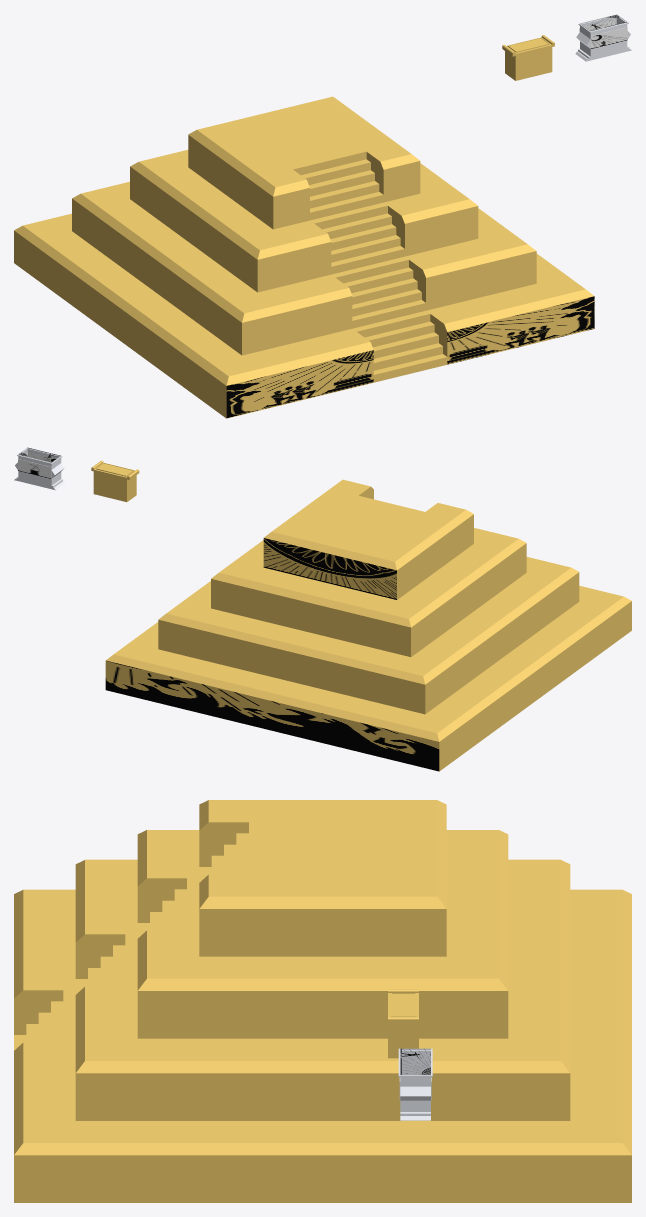
Rendered from Top1.fbx.
3 views of the same model, one above another, from view 1: azimuth 30°, elevation 25°; view 2: azimuth 150°, elevation 25°; view 3: azimuth 270°, elevation 25° (orthographic). The views are drawn at different scales.
Visible parts, largest first — view 1: 큐브, MoonJedan, SunJedan; view 2: 큐브, MoonJedan, SunJedan; view 3: 큐브, MoonJedan, SunJedan.
Boxes of the visible parts, x1,y1,x2,y2 form: 큐브: [14, 96, 594, 418]; MoonJedan: [575, 14, 631, 61]; SunJedan: [502, 35, 554, 80]; 큐브: [105, 479, 631, 771]; MoonJedan: [14, 447, 64, 490]; SunJedan: [91, 460, 139, 501]; 큐브: [14, 800, 631, 1202]; MoonJedan: [398, 1048, 432, 1120]; SunJedan: [388, 989, 418, 1058].
Size of the model in its own units: 2925 by 885 by 2000.
9 materials, 7 textured.
